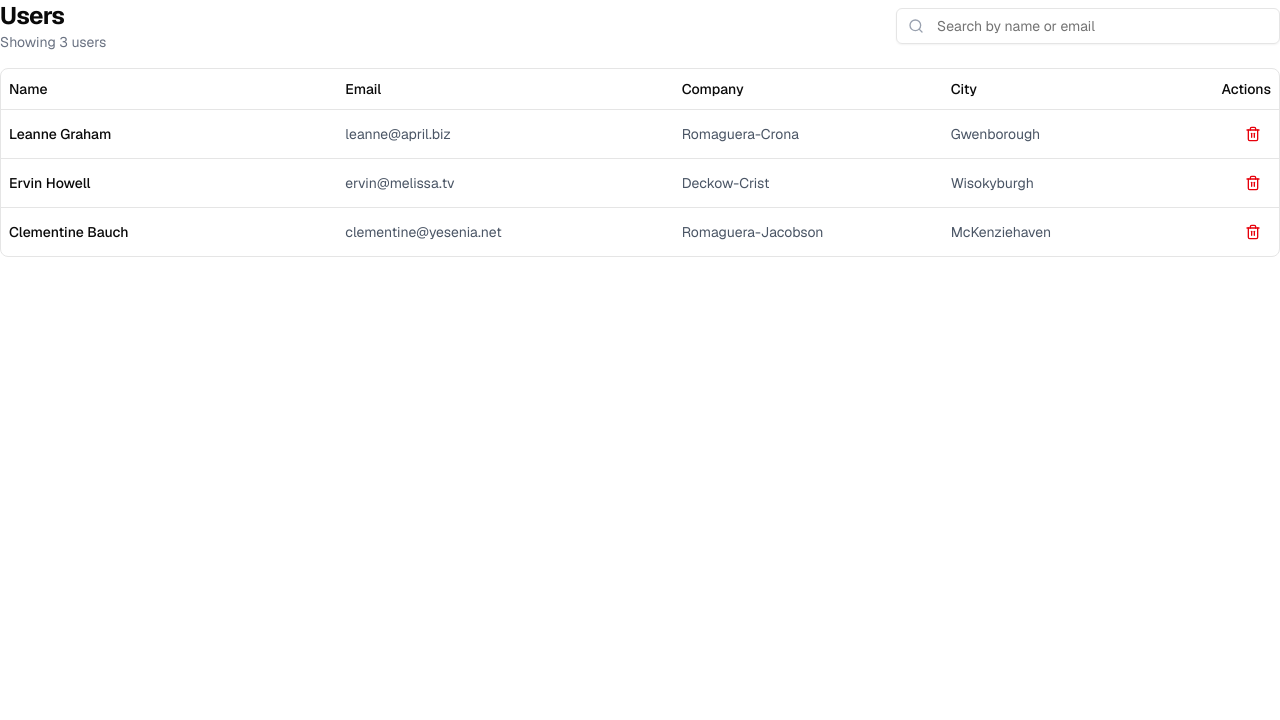
Test: UserTable Integration Tests › Delete Functionality › should delete user when confirmed
expect the text "Leanne Graham" is shown: met, box 1,109 -> 337,158
What coordinates should you click on to do the following:
click the button without text in the row of "Leanne Graham"
I would click on:
 (1253, 134)
Its box is 1235,118 -> 1271,150.
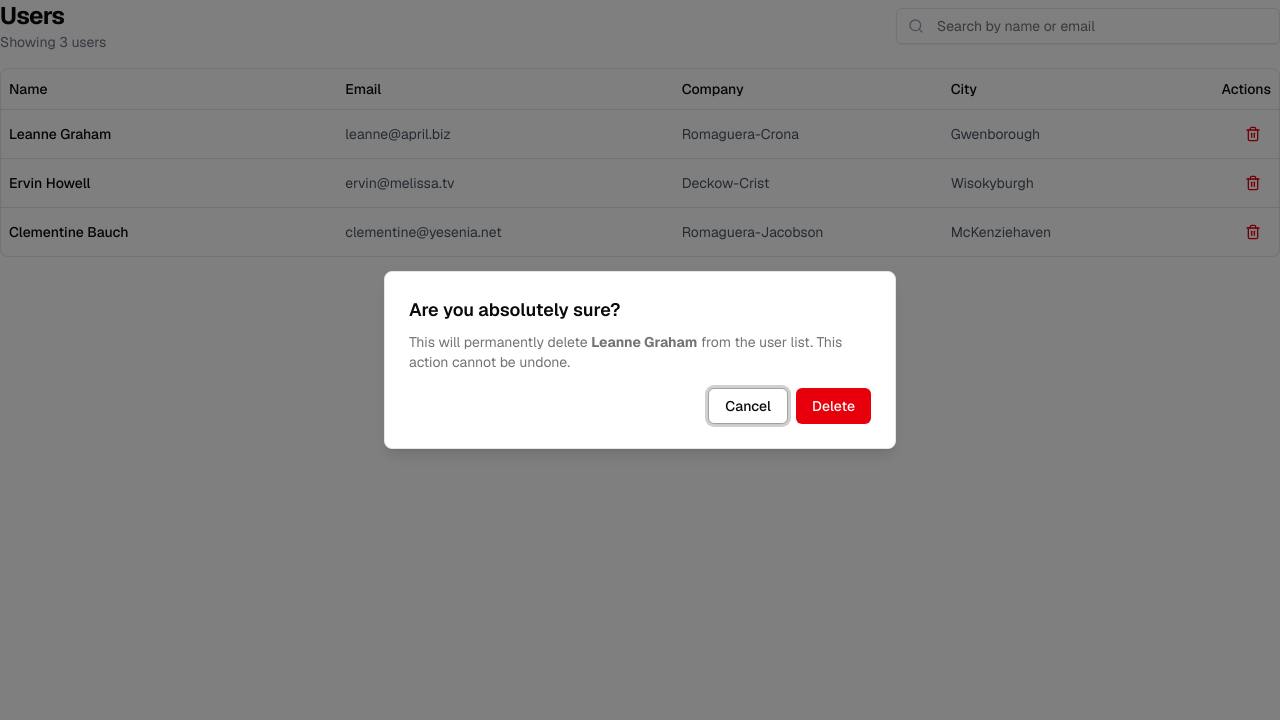
expect the heading "Are you absolutely sure?" is shown: met, box 409,298 -> 620,321
What coordinates should you click on to do the following:
click the button "Delete"
I would click on:
 (833, 406)
Its box is 796,388 -> 871,424.
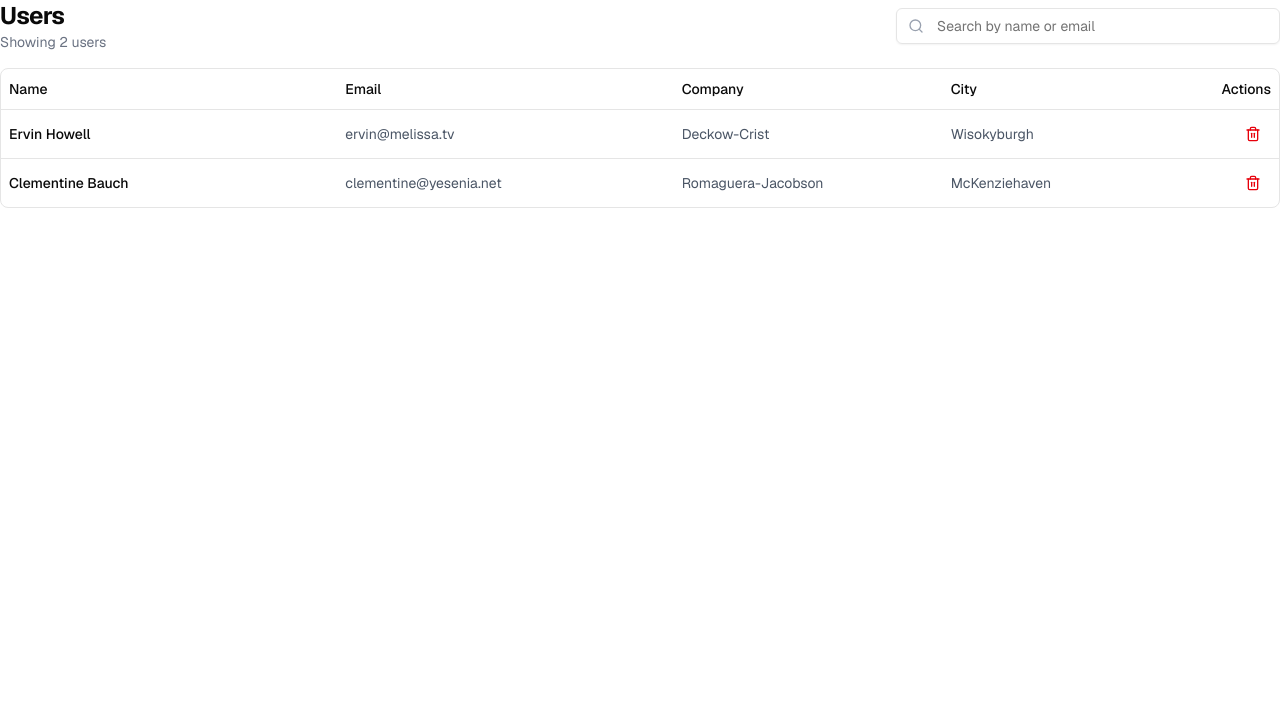
expect the text "Leanne Graham" is gone: met
expect the text "Showing 2 users" is shown: met, box 0,32 -> 106,52
